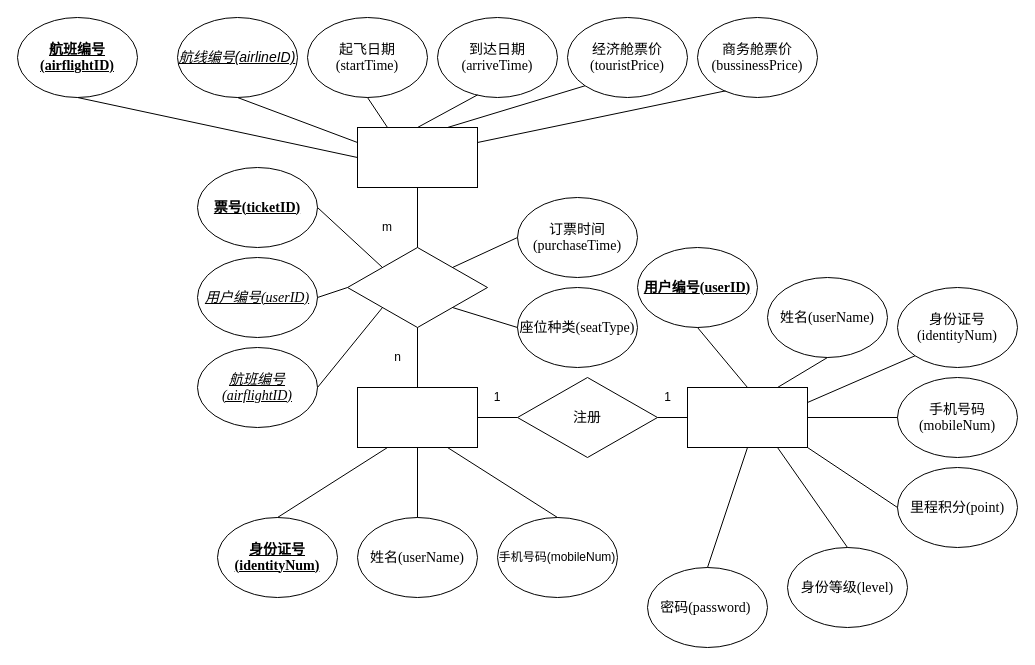
The diagram is 1035 pixels wide and 665 high, and some of its shapes have lost their labels. Here are the shapes that lost their labels. From the top down, the centre of each, then its label:
At pixel 417 157: "航班 (airflight)".
At pixel 417 287: "票务 (ticketService)".
At pixel 417 417: "普通用户 (user)".
At pixel 747 417: "经常用户 (userSP)".
